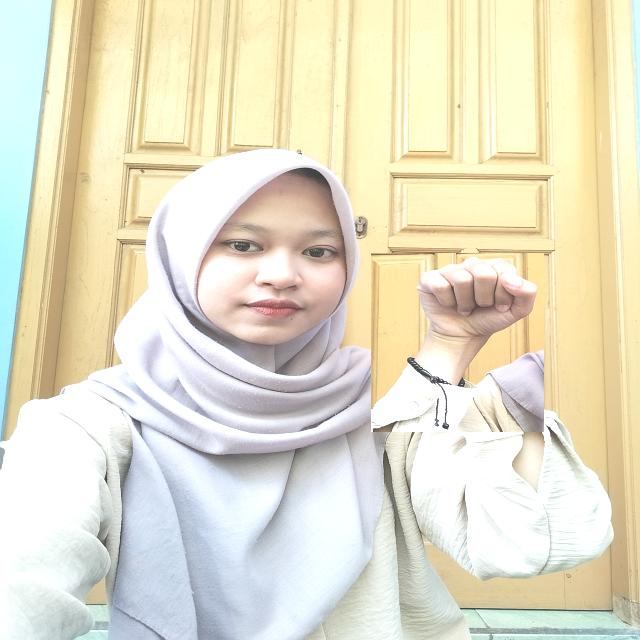baik: (371, 253, 544, 432)
